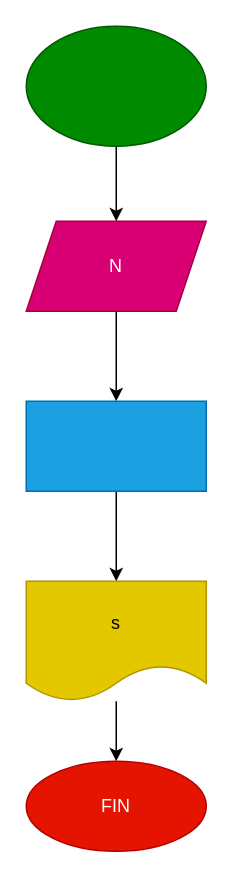
Some shapes in this 233 by 878 pixel diagram are drawn without their labels. The centre of each missing label's shape, as x and y in pixels:
"INICIO" belongs at (115,85).
"s = N(N+1)/2" belongs at (115,445).
